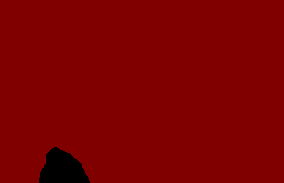Sky: (1, 1, 283, 182)
